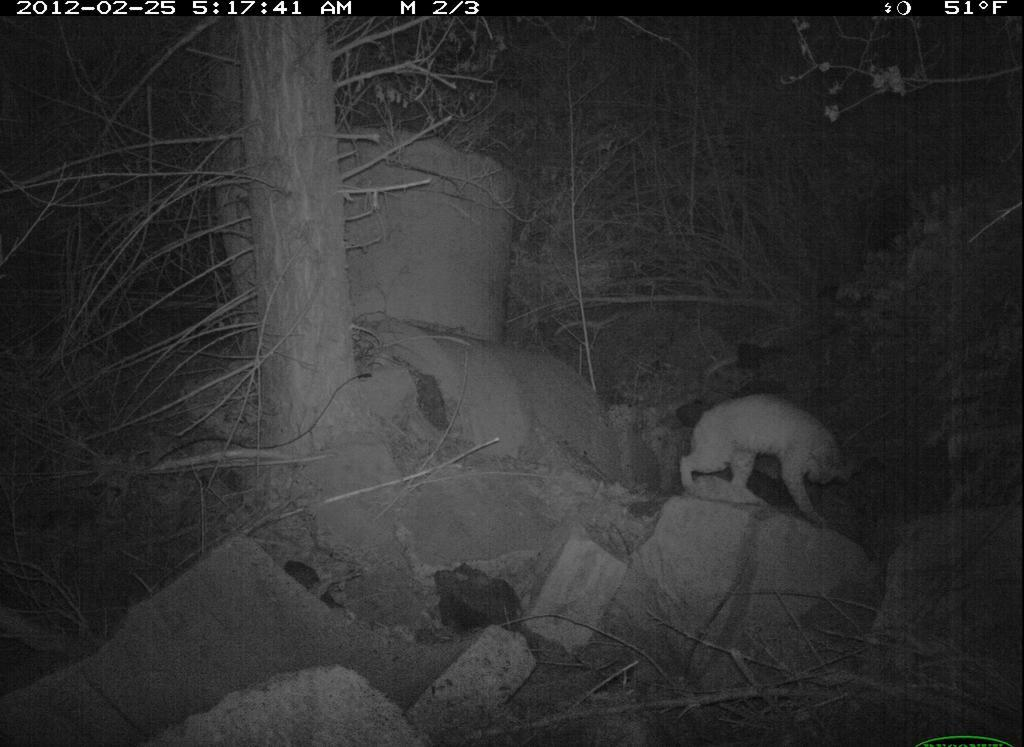bobcat: (665, 391, 870, 542)
